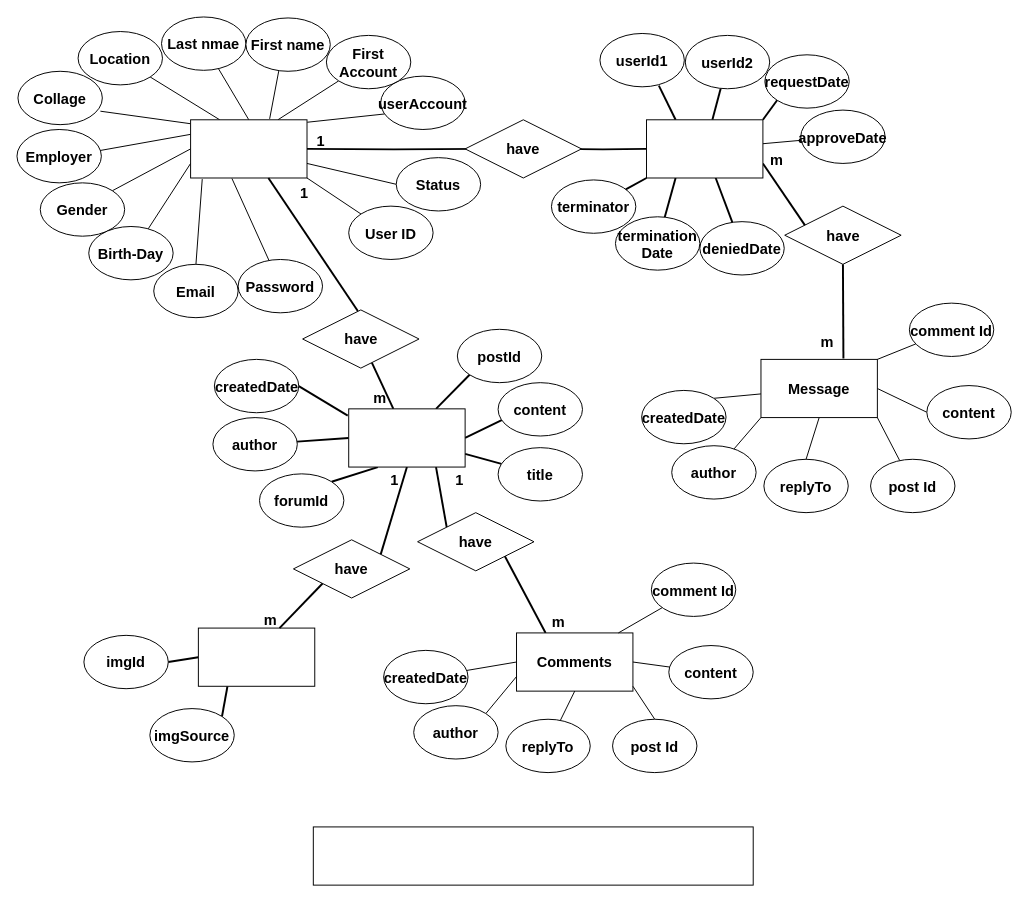
This 1028x902 diagram has some shape labels left out. The shapes that lost their labels are listed below. From the top down, each one's box as (x1, y1, x2, y2) in pixels, then its label:
(190, 119, 307, 178): Person
(646, 119, 763, 178): Friendship
(348, 408, 465, 467): Posts
(197, 627, 315, 686): Images
(312, 826, 753, 885): E-R Diagram Social Networking Site (Triibe)
